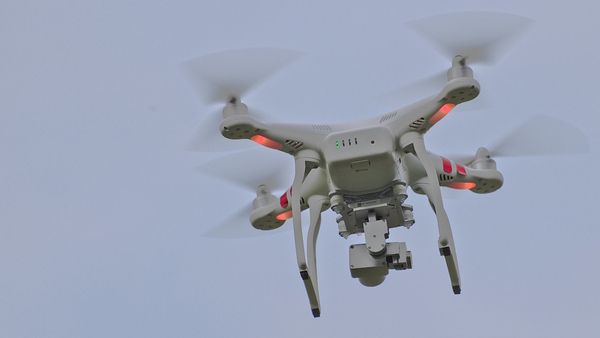drone: (178, 42, 540, 320)
